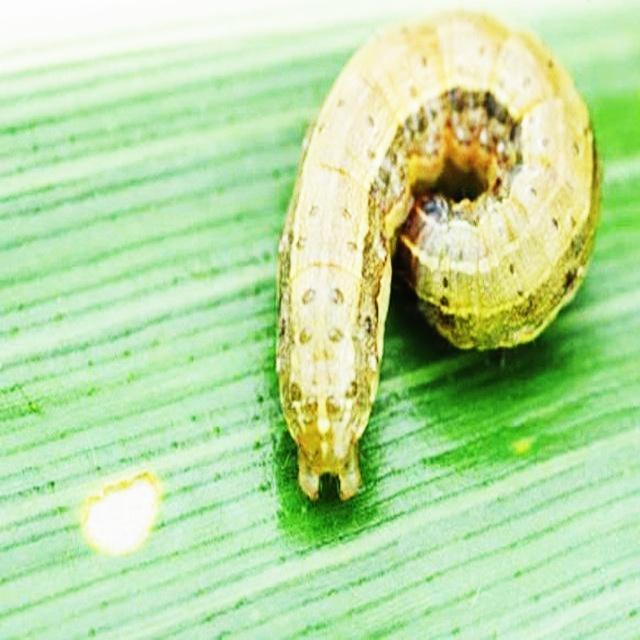gusano_cogollero: (272, 0, 602, 505)
